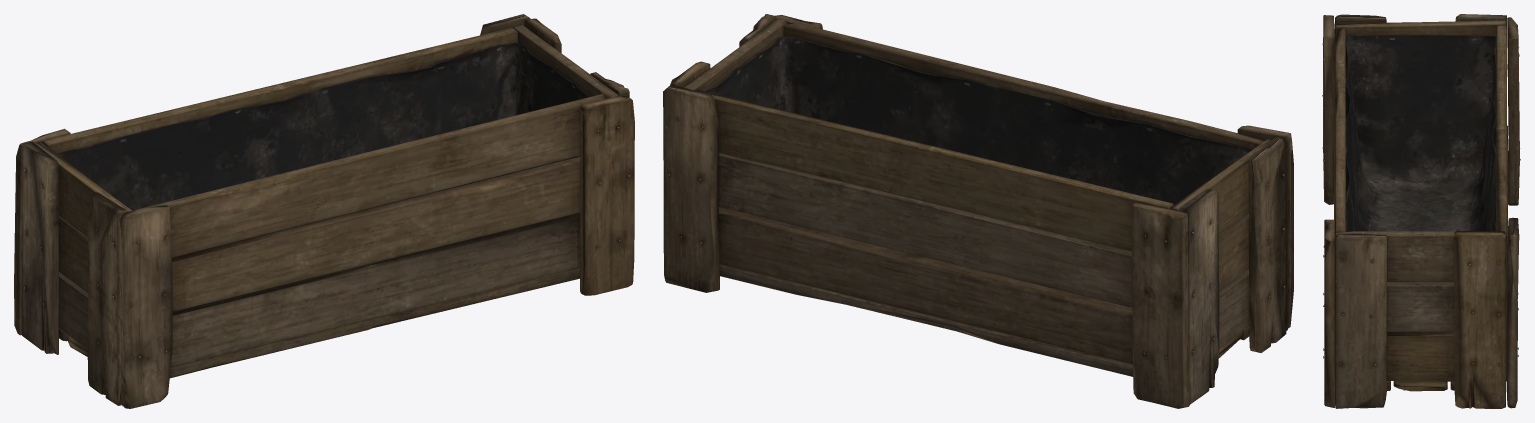
File: ph-planter_box_02.glb
The picture shows the model from 3 angles, left to right: view 1: azimuth 30°, elevation 25°; view 2: azimuth 150°, elevation 25°; view 3: azimuth 270°, elevation 25°; orthographic projection. The views are drawn at different scales.
Visible parts, largest first — view 1: planter_box_02; view 2: planter_box_02; view 3: planter_box_02.
Boxes of the visible parts, <box> form: planter_box_02: <box>14,14,634,408</box>; planter_box_02: <box>663,14,1293,408</box>; planter_box_02: <box>1322,14,1520,408</box>.
Size of the model in its own units: 1.25 by 0.4528 by 0.467.
Materials: 1 (1 with a texture image).
